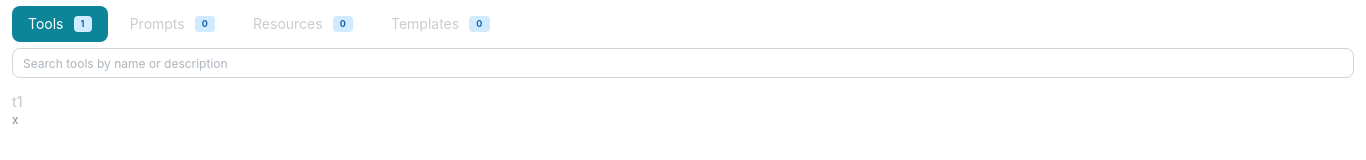
Inspector tabs — pills variant active state (DEC-032 / SOW-0007) › active tab stays identifiable when the panel renders the per-list error Alert
Click the tab "Prompts 0" at (172, 24), box [114,6,231,42]
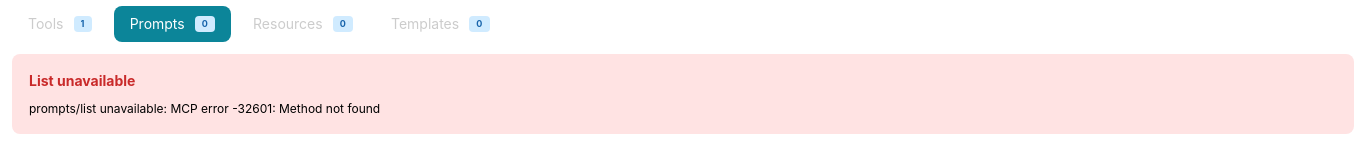
Expected: the text "List unavailable" is shown, [29,71,135,91]
Expected: the text "prompts/list unavailable: MCP error -32601: Method not found" is shown, [29,101,380,116]
